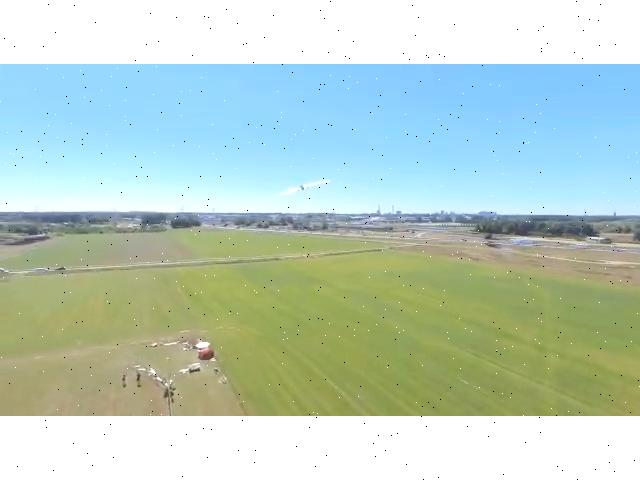Anti-Drone: (271, 172, 335, 204)
